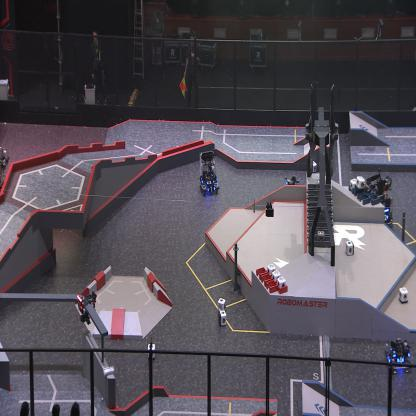car: (364, 174, 392, 228), (198, 147, 219, 196), (384, 336, 410, 375), (283, 175, 301, 202), (0, 147, 10, 190)
